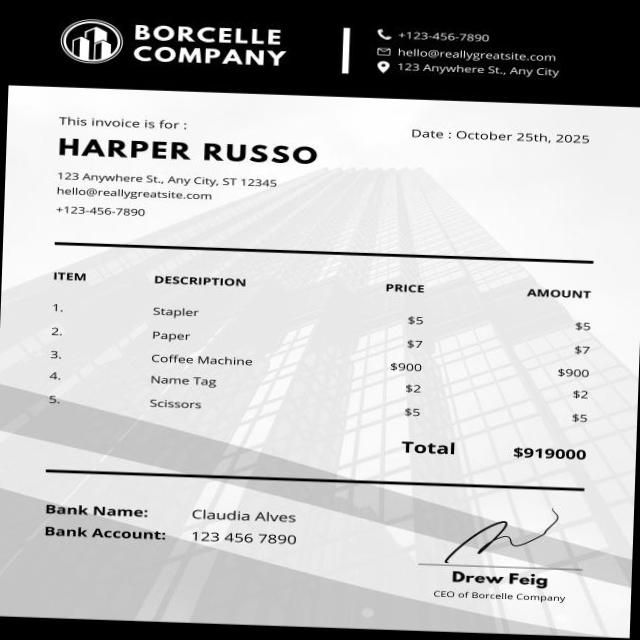customer_address: (53, 168, 284, 192)
customer_name: (54, 132, 326, 170)
invoice_date: (454, 126, 591, 148)
invoice_total: (507, 442, 590, 466)
item_description: (134, 292, 258, 422)
item_quantity: (34, 289, 74, 413)
item_total_price: (550, 316, 600, 434)
item_unit_price: (383, 308, 438, 430)
supplier_address: (392, 59, 562, 80)
supplier_name: (133, 19, 296, 75)
